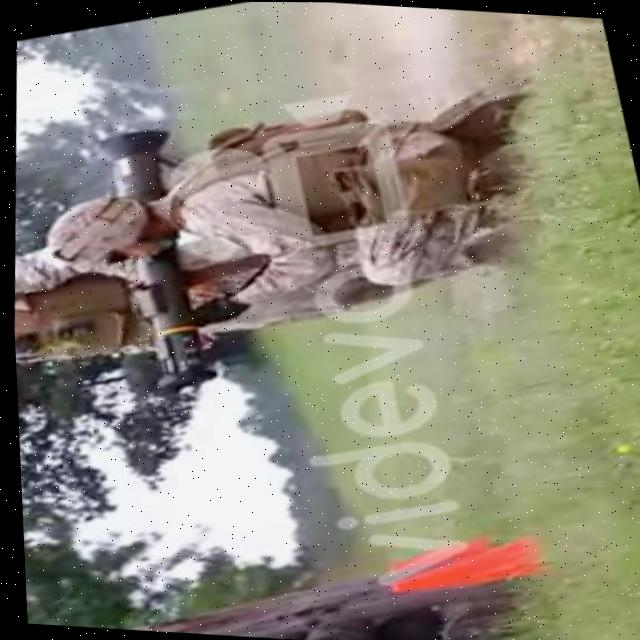rocket: (86, 119, 229, 394)
